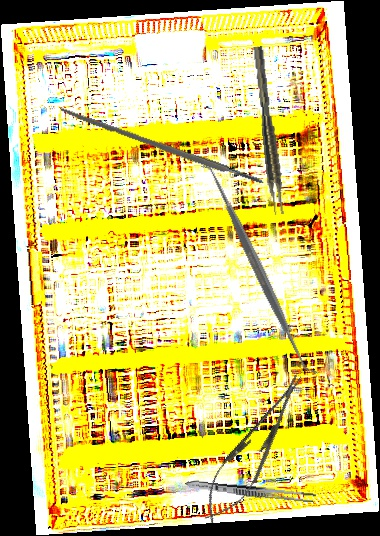Dressing Forceps: (184, 478, 318, 504)
Needle Holder: (191, 364, 318, 532)
Scalpel Handle: (58, 105, 265, 188)
Spatula Surgical: (197, 157, 322, 383)
Tissue Forceps: (253, 45, 286, 216)
